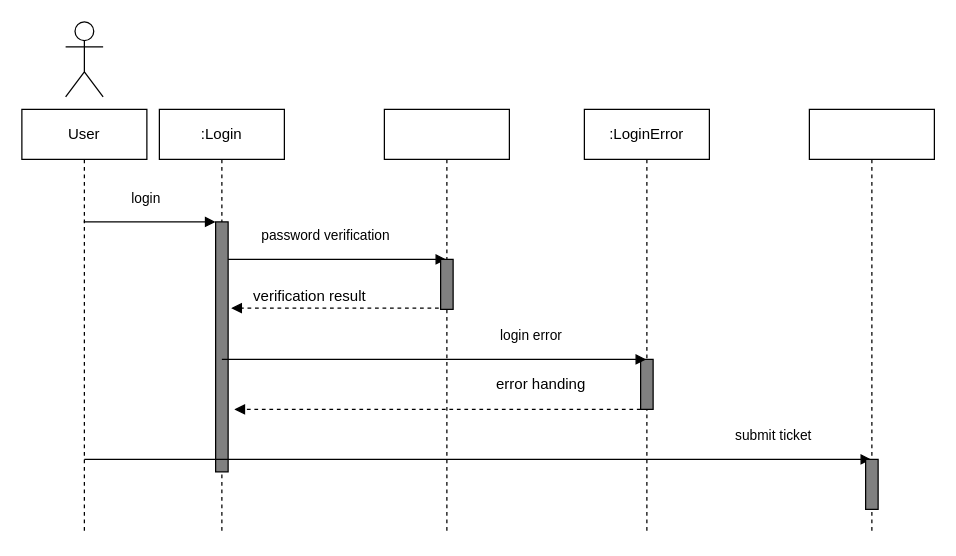
This 956x556 diagram has some shape labels left out. Each missing label, with the box of its shape:
:PasswordVerific: (383, 108, 509, 534)
:SubmitTicket: (808, 108, 934, 534)
